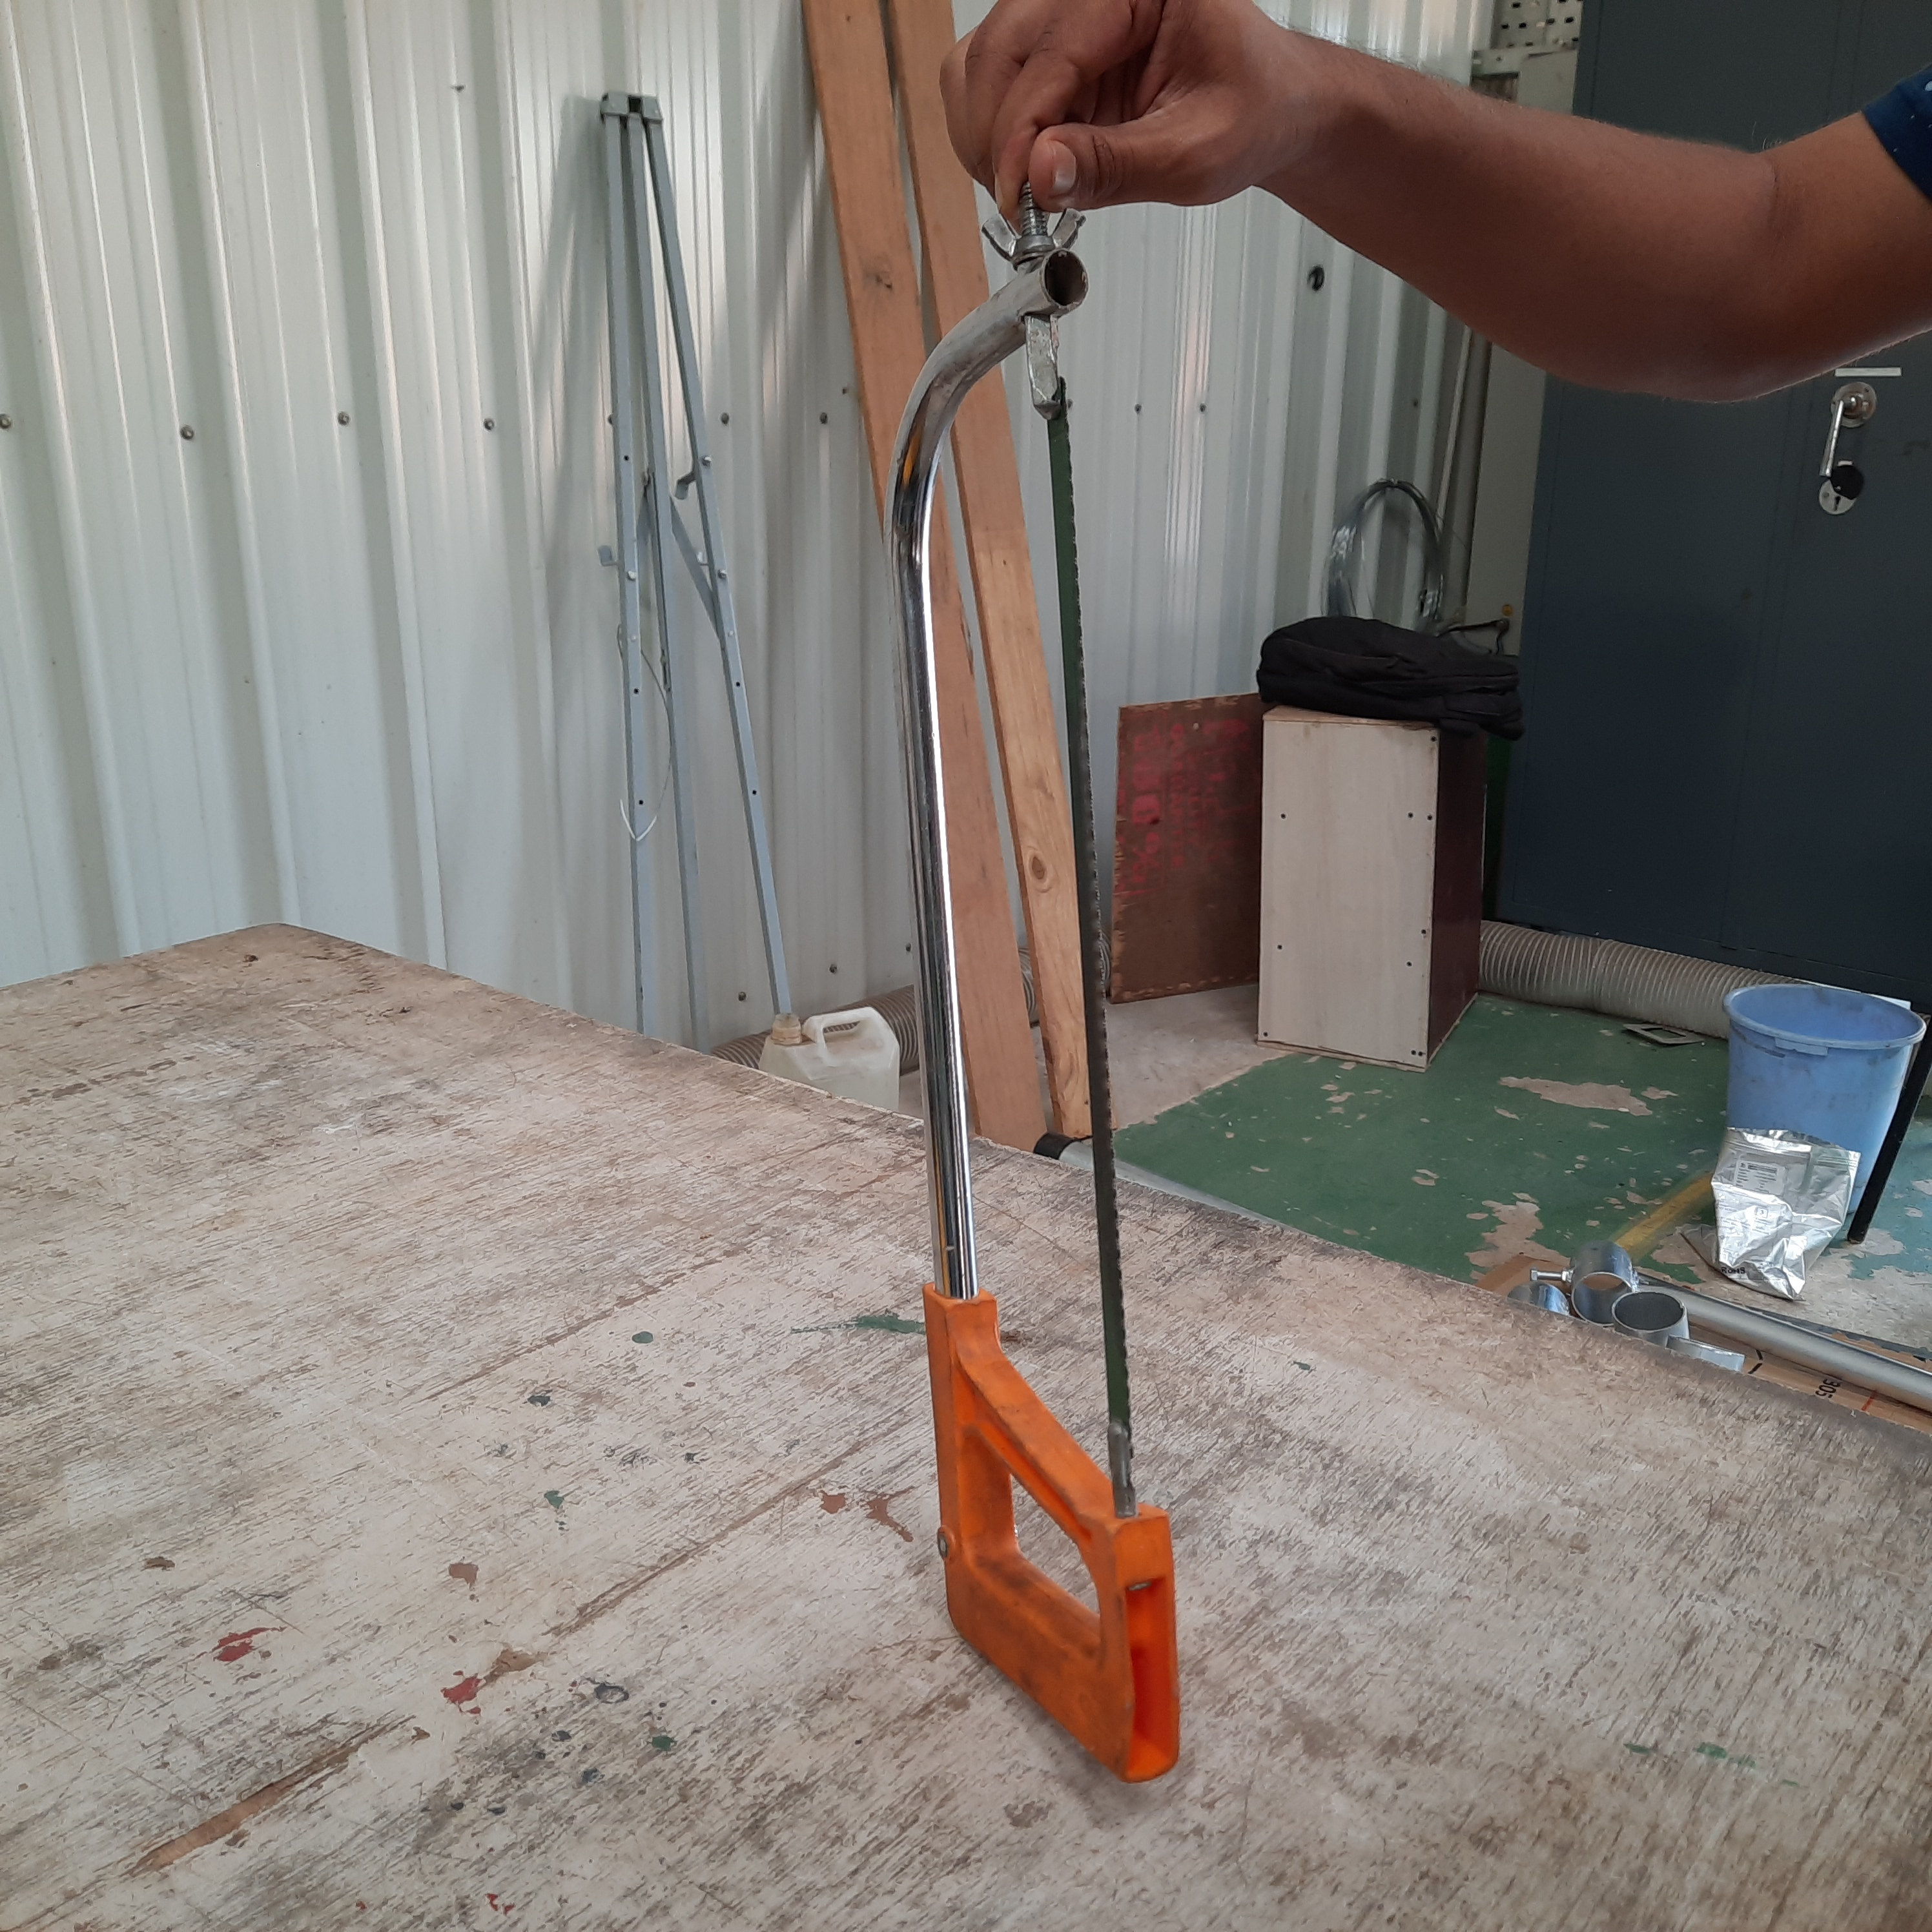Hexaframe: (839, 179, 1261, 1782)
